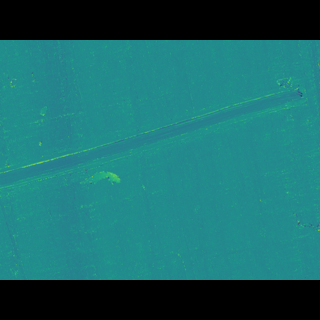Loch: (0, 94, 306, 189)
